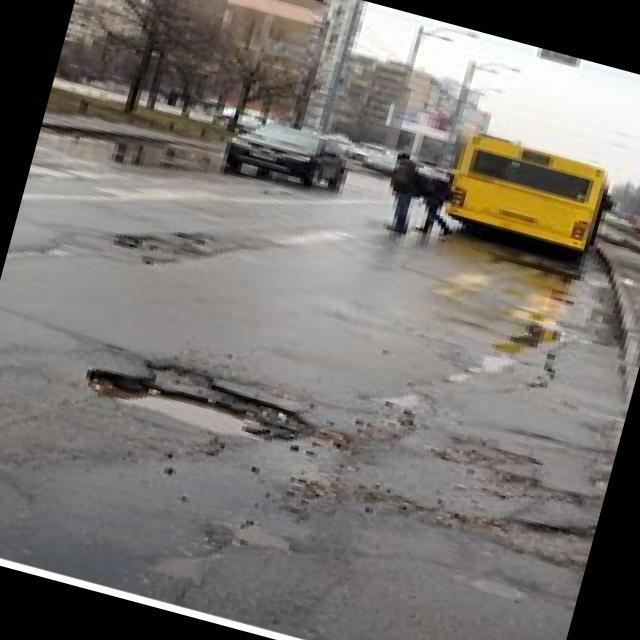Pothole: (79, 340, 323, 460), (106, 224, 210, 278), (172, 223, 214, 250)
